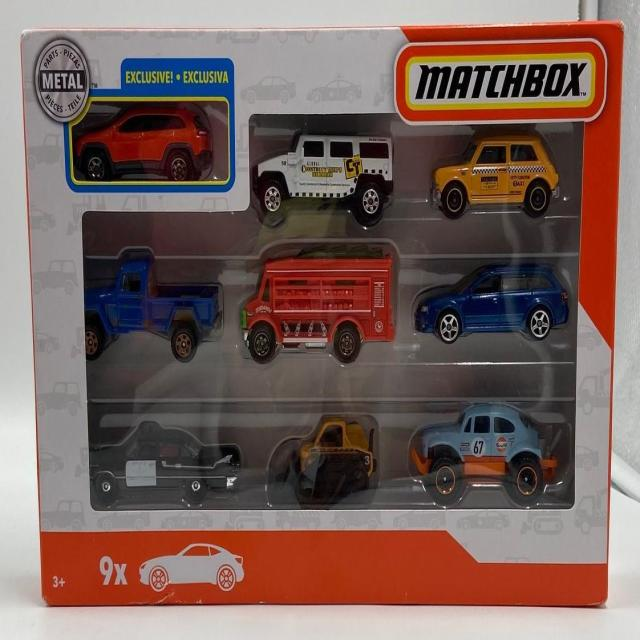Car: (83, 246, 224, 363), (409, 401, 558, 498), (251, 130, 394, 229), (88, 419, 240, 510), (413, 261, 569, 344), (430, 129, 559, 220), (72, 102, 213, 182), (290, 415, 376, 504), (138, 542, 245, 593), (241, 75, 296, 104), (306, 78, 362, 103)
